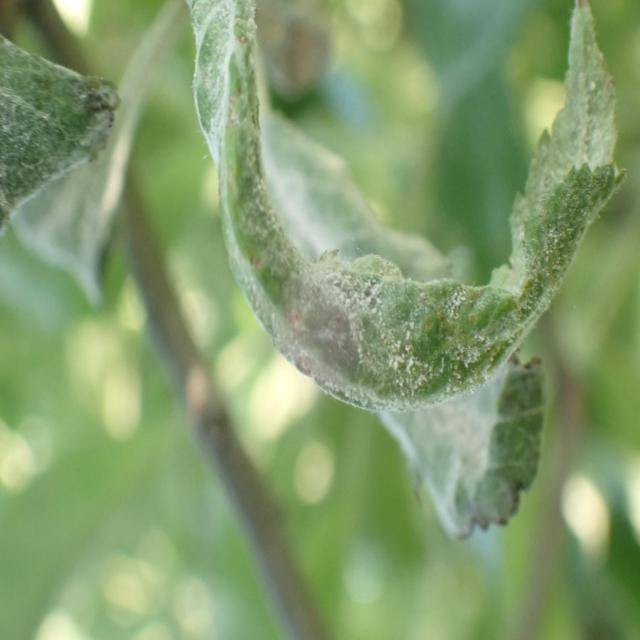Powdery_mildew: (187, 11, 640, 557), (0, 0, 155, 319), (127, 319, 131, 319)
